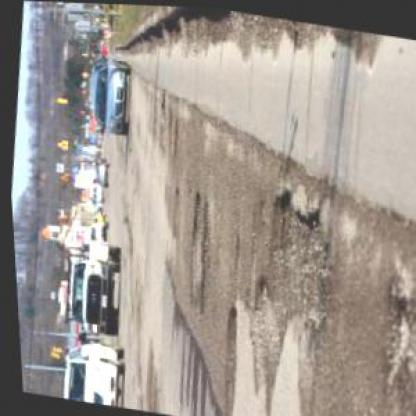pothole: (252, 180, 346, 324), (368, 274, 414, 394), (239, 272, 287, 377), (206, 294, 247, 415), (186, 190, 223, 315), (176, 186, 203, 299), (165, 179, 183, 237)
